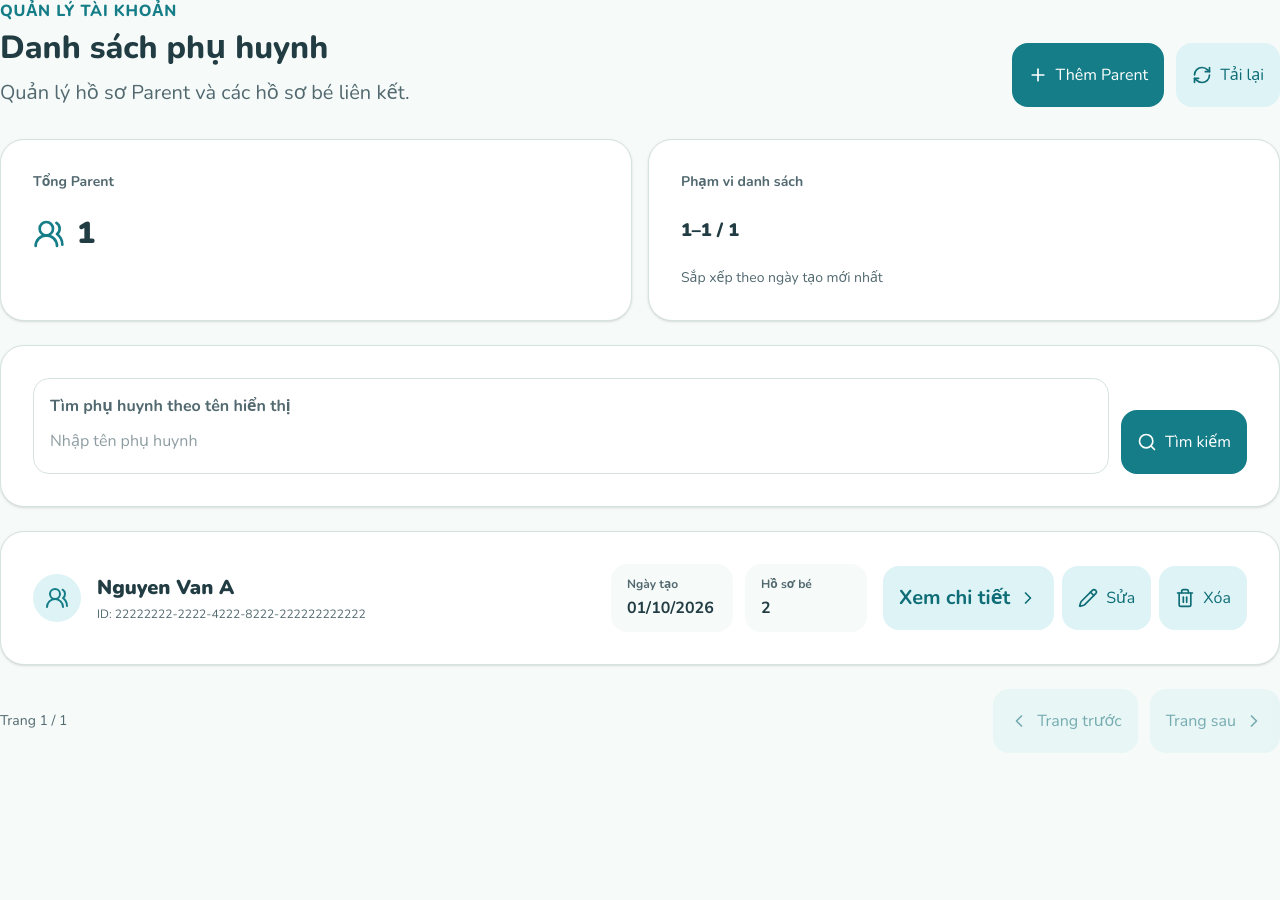
Test: AdminParentsScreen › soft-deletes a Parent through the API and removes it from the refreshed list
Expected: the heading "Nguyen Van A" is shown, [97,574,234,601]
Click the button "Xóa" at (1203, 598), box [1159,566,1247,630]
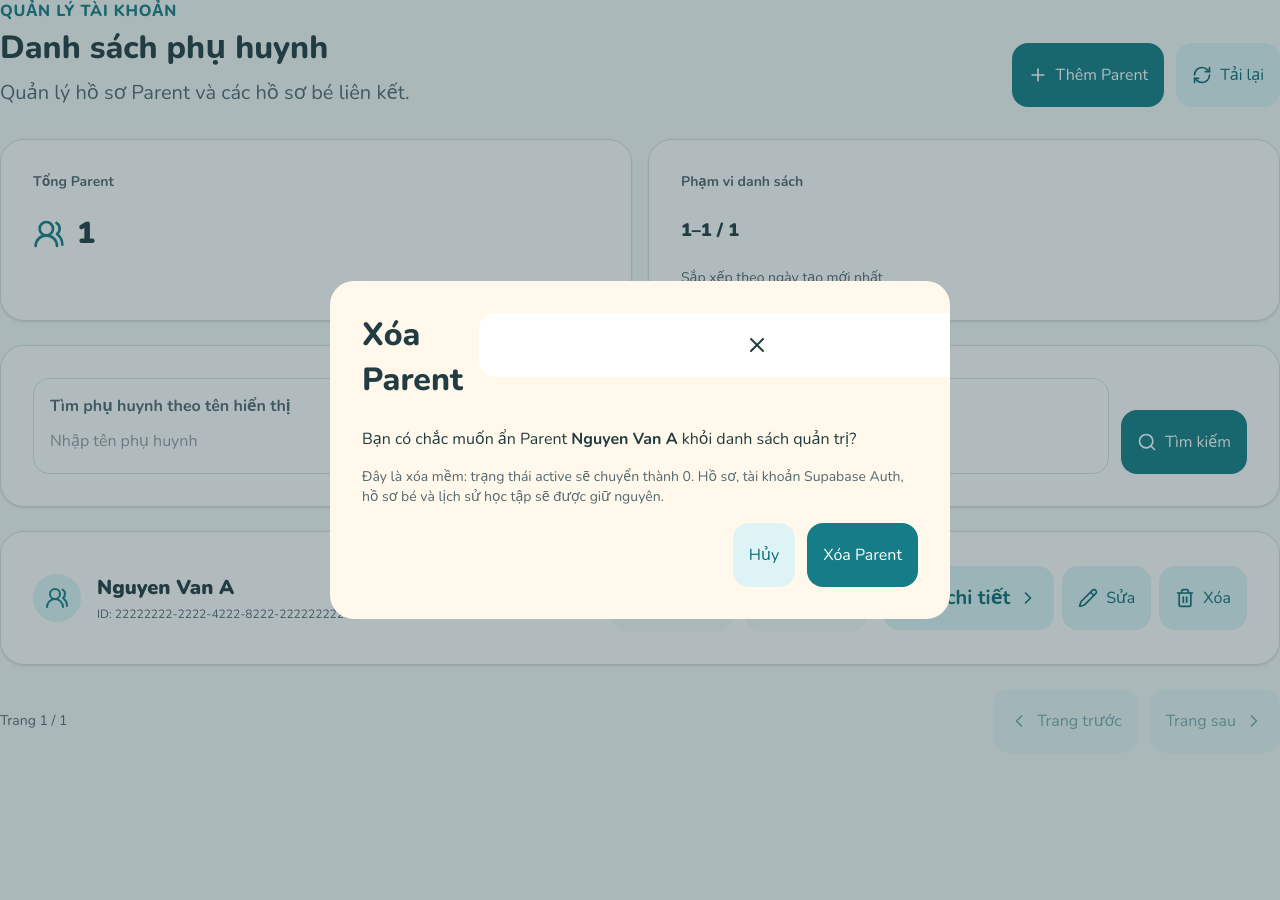
Result: the text "Đây là xóa mềm" is shown at [362,467,904,506]
Click the button "Xóa Parent" at (863, 555), box [807,523,918,587]
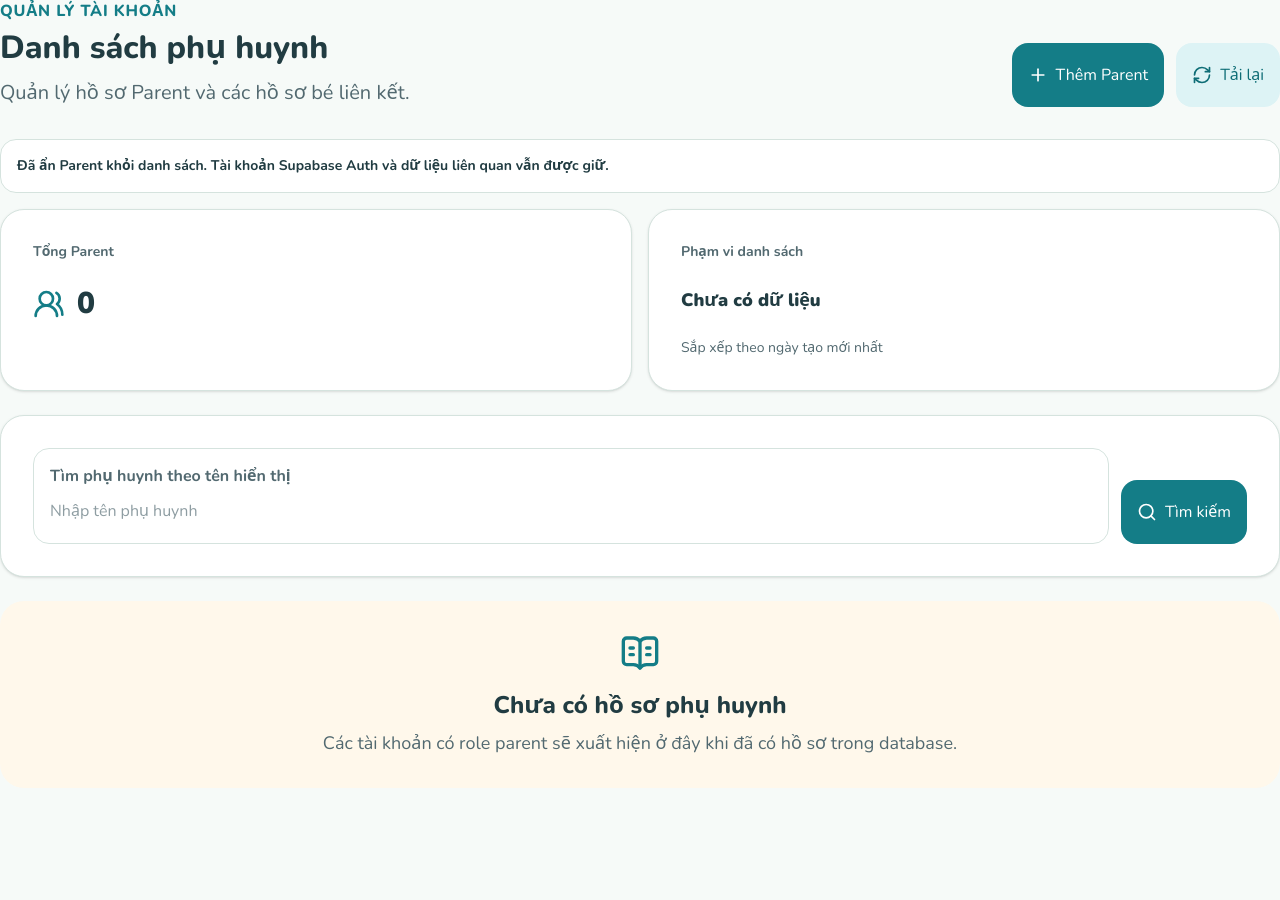
Result: the heading "Chưa có hồ sơ phụ huynh" is shown at [494,689,786,721]
Result: the heading "Nguyen Van A" is gone
